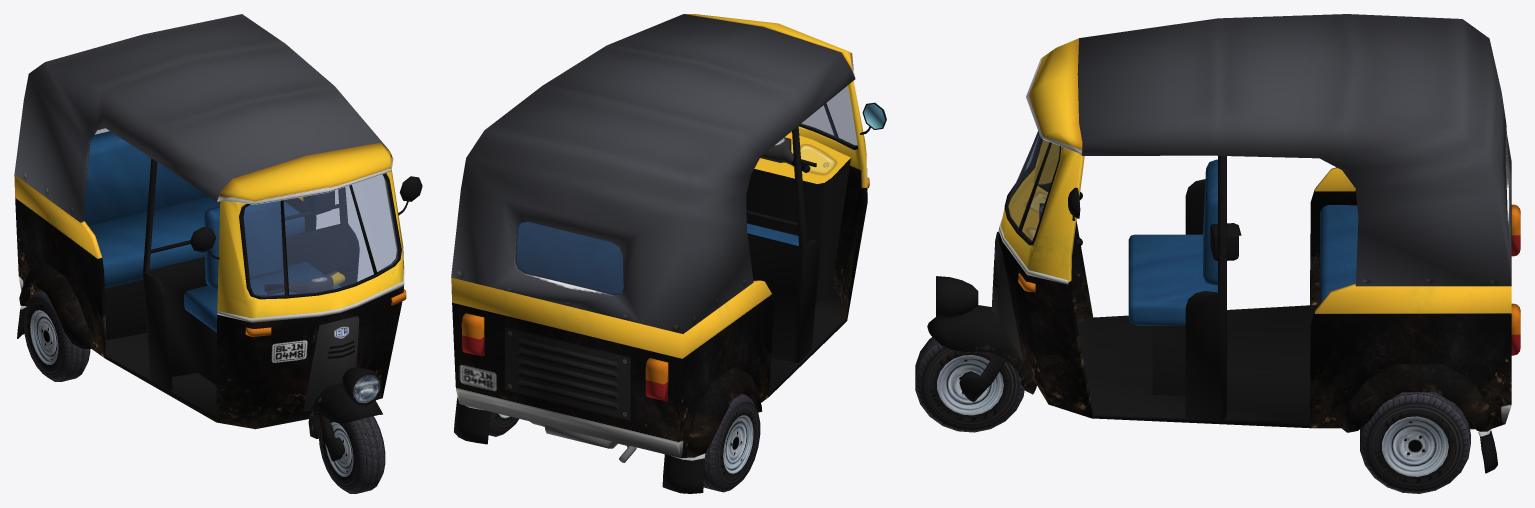
File: tuktuk.glb
The picture shows the model from 3 angles, left to right: view 1: azimuth 30°, elevation 25°; view 2: azimuth 150°, elevation 25°; view 3: azimuth 270°, elevation 25°; orthographic projection. The views are drawn at different scales.
Parts seen in each view (by area): view 1: Object_7, Object_4, Object_23, Object_5; view 2: Object_7, Object_4, Object_23, Object_5; view 3: Object_4, Object_7, Object_5, Object_23.
Part boxes in pixels (x1,y1,x2,y2): Object_7: (14,14,388,332); Object_4: (14,143,422,476); Object_23: (95,128,398,296); Object_5: (17,173,404,493); Object_7: (451,14,855,333); Object_4: (451,14,886,473); Object_23: (516,86,857,294); Object_5: (454,103,867,493); Object_4: (927,38,1520,476); Object_7: (1077,14,1511,325); Object_5: (915,131,1497,493); Object_23: (1008,132,1059,241).
Bounding box in the file's own units: 1.64 × 1.98 × 2.97.
Materials: 4 (3 with a texture image).
